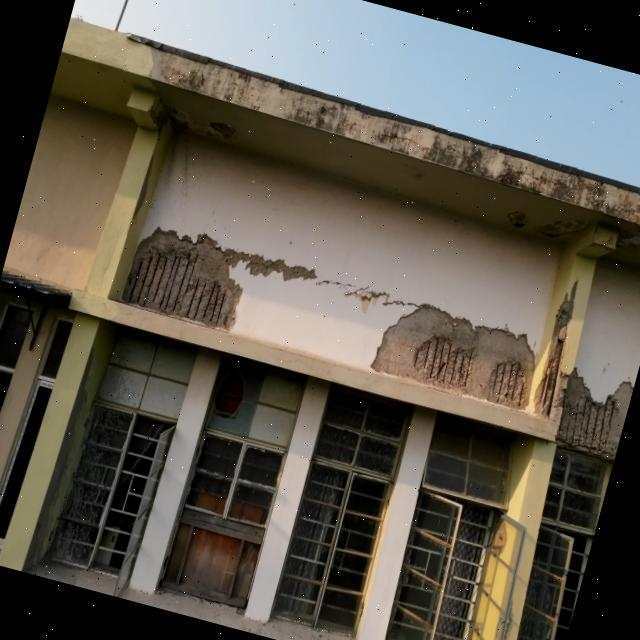spalling: (371, 304, 534, 409), (122, 230, 241, 328), (556, 369, 624, 457), (534, 285, 576, 421), (535, 281, 577, 416)
stain_mould: (67, 20, 640, 224)
